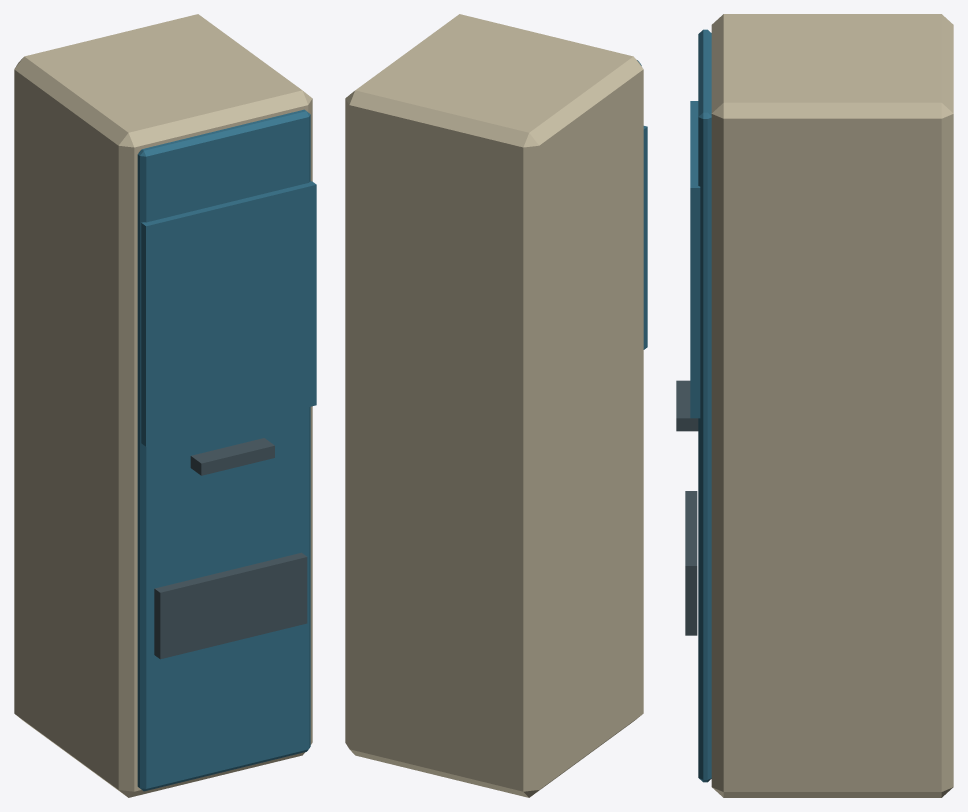
File: ticket_machine.glb
3 renders of one model, left to right at view 1: azimuth 30°, elevation 25°; view 2: azimuth 150°, elevation 25°; view 3: azimuth 270°, elevation 25°, orthographic. The views are drawn at different scales.
Visible parts, largest first — view 1: ticket_machine; view 2: ticket_machine; view 3: ticket_machine.
Boxes of the visible parts, bbox=[...] form: ticket_machine: bbox=[14, 14, 316, 797]; ticket_machine: bbox=[345, 14, 647, 797]; ticket_machine: bbox=[676, 14, 953, 797].
Size of the model in its own units: 0.58 by 1.9 by 0.6875.
